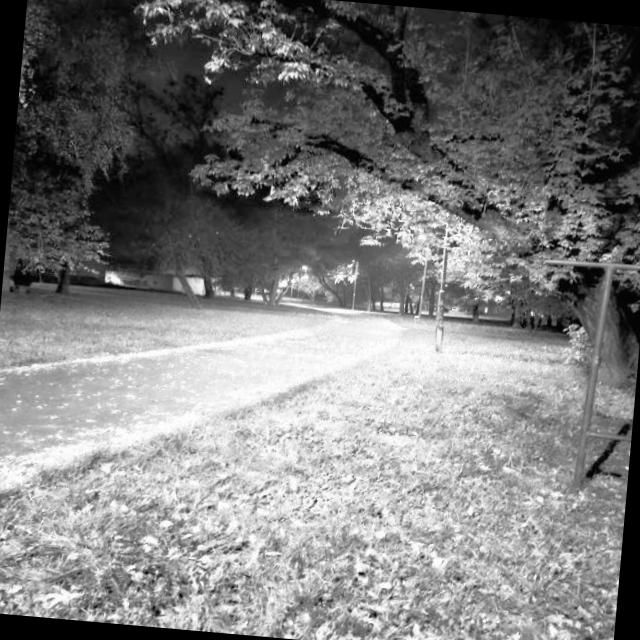Light: (341, 250, 374, 313)
Tree: (385, 19, 640, 392)
